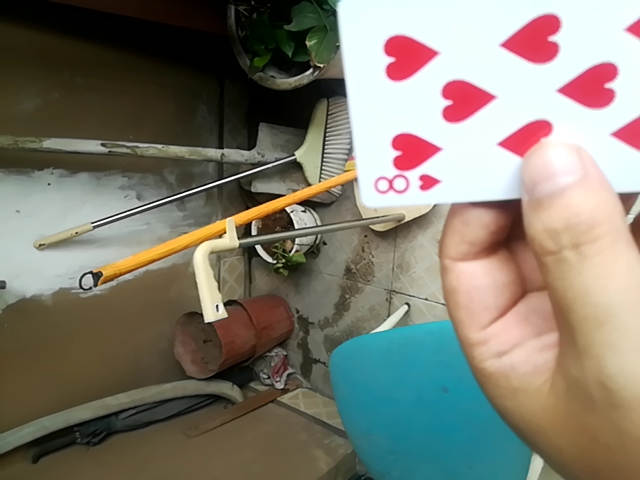hx 8: (333, 0, 635, 210)
